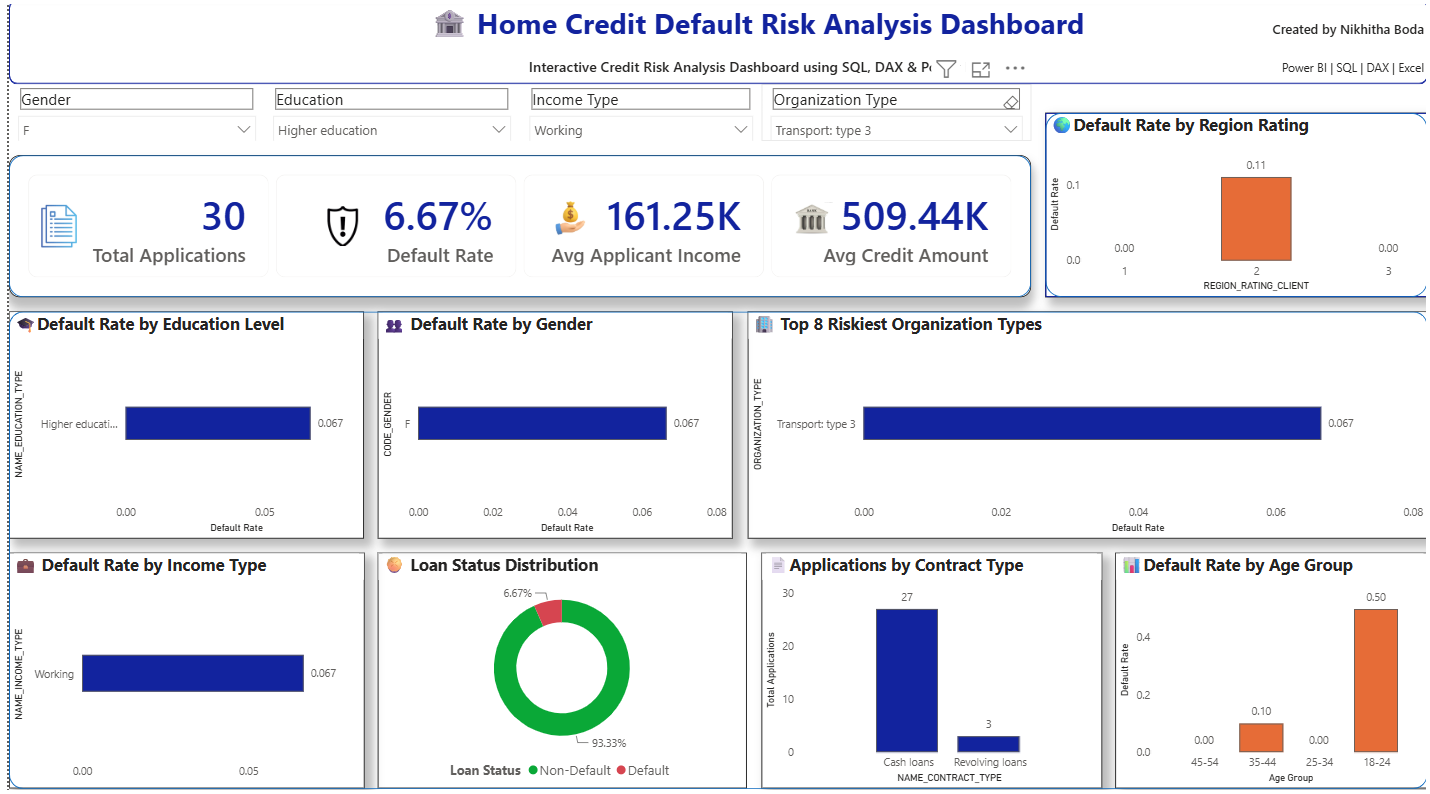

The page's visual inventory and layout, read from the dashboard file:
{"tool":"powerbi","page":{"name":"Page 1","canvas":[1600,900],"ordinal":0},"visuals":[{"type":"cardVisual","fields":{"Data":["home_credit_project application_train.Total Applications","home_credit_project application_train.Default Rate","home_credit_project application_train.Avg Applicant Income","home_credit_project application_train.Avg Credit Amount"]},"box":[0,176,1152,160],"z":0},{"type":"textbox","box":[0,0,1600,96],"z":1000},{"type":"slicer","fields":{"Values":["home_credit_project application_train.CODE_GENDER"]},"box":[0,96,288,64],"z":2000},{"type":"slicer","fields":{"Values":["home_credit_project application_train.NAME_INCOME_TYPE"]},"box":[576,96,272,64],"z":3000},{"type":"slicer","fields":{"Values":["home_credit_project application_train.NAME_EDUCATION_TYPE"]},"box":[288,96,288,64],"z":4000},{"type":"slicer","fields":{"Values":["home_credit_project application_train.ORGANIZATION_TYPE"]},"box":[848,96,304,64],"z":5000},{"type":"clusteredBarChart","title":"🎓Default Rate by Education Level","fields":{"Category":["home_credit_project application_train.NAME_EDUCATION_TYPE"],"Y":["home_credit_project application_train.Default Rate"]},"box":[0,352,400,256],"z":6000},{"type":"clusteredBarChart","title":"🏢 Top 8 Riskiest Organization Types","fields":{"Y":["home_credit_project application_train.Default Rate"],"Category":["home_credit_project application_train.ORGANIZATION_TYPE"]},"box":[832,352,768,256],"z":7000},{"type":"donutChart","title":"🥧 Loan Status Distribution","fields":{"Y":["home_credit_project application_train.Total Applications"],"Category":["home_credit_project application_train.Loan Status"]},"box":[415.8,623.6,415.8,266],"z":8000},{"type":"clusteredBarChart","title":"👥 Default Rate by Gender","fields":{"Category":["home_credit_project application_train.CODE_GENDER"],"Y":["home_credit_project application_train.Default Rate"]},"box":[416,352,400,256],"z":9000},{"type":"clusteredBarChart","title":"💼 Default Rate by Income Type","fields":{"Category":["home_credit_project application_train.NAME_INCOME_TYPE"],"Y":["home_credit_project application_train.Default Rate"]},"box":[0,623.6,400.5,266],"z":10000},{"type":"clusteredColumnChart","title":"📄Applications by Contract Type","fields":{"Category":["home_credit_project application_train.NAME_CONTRACT_TYPE"],"Y":["home_credit_project application_train.Total Applications"]},"box":[848.3,623.6,383.7,266],"z":11000},{"type":"clusteredColumnChart","title":"📊Default Rate by Age Group","fields":{"Category":["home_credit_project application_train.Age Group"],"Y":["home_credit_project application_train.Default Rate"]},"box":[1247.3,623.6,353.1,266],"z":12000},{"type":"clusteredColumnChart","title":"🌍Default Rate by Region Rating","fields":{"Category":["home_credit_project application_train.REGION_RATING_CLIENT"],"Y":["home_credit_project application_train.Default Rate"]},"box":[1167.8,128.4,432.6,207.9],"z":13000},{"type":"shape","box":[0,176,1152,160],"z":14000},{"type":"image","box":[32,224,48,64],"z":15000},{"type":"image","box":[352,224,48,64],"z":16000},{"type":"image","box":[608,224,48,48],"z":17000},{"type":"image","box":[880,224,48,48],"z":18000},{"type":"shape","box":[0,0,1598.9,96.3],"z":19000},{"type":"shape","box":[0,2,1599,94],"z":20000},{"type":"shape","box":[1167.8,128.4,431,207.9],"z":21000},{"type":"shape","box":[1167.8,128.4,431,207.9],"z":22000},{"type":"shape","box":[0,351.6,1598.9,538],"z":23000},{"type":"shape","box":[1167.8,128.4,431,207.9],"z":24000}]}

Visuals, with their boxes in screenshot pixels (x1, y1, x2, y2), scaled from the page's 1600x900 canvas onto the 1430x794 screenshot:
cardVisual - home_credit_project application_train.Total Applications x home_credit_project application_train.Default Rate: (left=0, top=155, right=1030, bottom=296)
textbox: (left=0, top=0, right=1429, bottom=85)
slicer - home_credit_project application_train.CODE_GENDER: (left=0, top=85, right=257, bottom=141)
slicer - home_credit_project application_train.NAME_INCOME_TYPE: (left=515, top=85, right=758, bottom=141)
slicer - home_credit_project application_train.NAME_EDUCATION_TYPE: (left=257, top=85, right=515, bottom=141)
slicer - home_credit_project application_train.ORGANIZATION_TYPE: (left=758, top=85, right=1030, bottom=141)
"🎓Default Rate by Education Level" clusteredBarChart: (left=0, top=311, right=358, bottom=536)
"🏢 Top 8 Riskiest Organization Types" clusteredBarChart: (left=744, top=311, right=1429, bottom=536)
"🥧 Loan Status Distribution" donutChart: (left=372, top=550, right=743, bottom=785)
"👥 Default Rate by Gender" clusteredBarChart: (left=372, top=311, right=729, bottom=536)
"💼 Default Rate by Income Type" clusteredBarChart: (left=0, top=550, right=358, bottom=785)
"📄Applications by Contract Type" clusteredColumnChart: (left=758, top=550, right=1101, bottom=785)
"📊Default Rate by Age Group" clusteredColumnChart: (left=1115, top=550, right=1429, bottom=785)
"🌍Default Rate by Region Rating" clusteredColumnChart: (left=1044, top=113, right=1429, bottom=297)
shape: (left=0, top=155, right=1030, bottom=296)
image: (left=29, top=198, right=72, bottom=254)
image: (left=315, top=198, right=358, bottom=254)
image: (left=543, top=198, right=586, bottom=240)
image: (left=786, top=198, right=829, bottom=240)
shape: (left=0, top=0, right=1429, bottom=85)
shape: (left=0, top=2, right=1429, bottom=85)
shape: (left=1044, top=113, right=1429, bottom=297)
shape: (left=1044, top=113, right=1429, bottom=297)
shape: (left=0, top=310, right=1429, bottom=785)
shape: (left=1044, top=113, right=1429, bottom=297)
